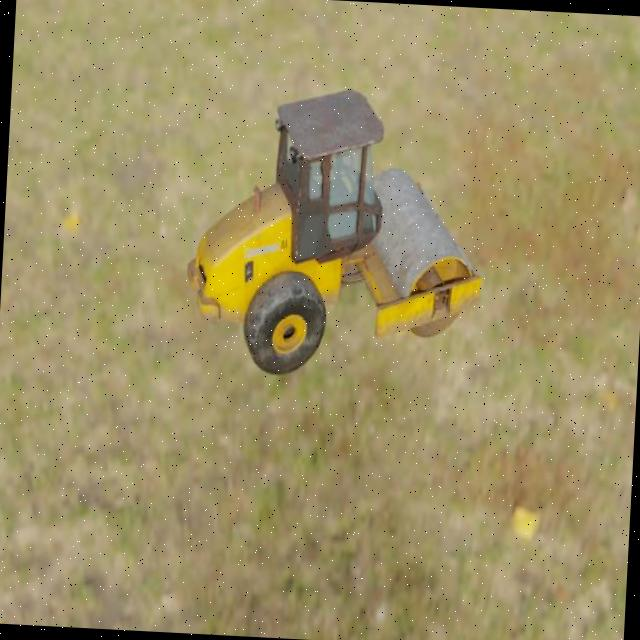Roller: (181, 80, 492, 386)
